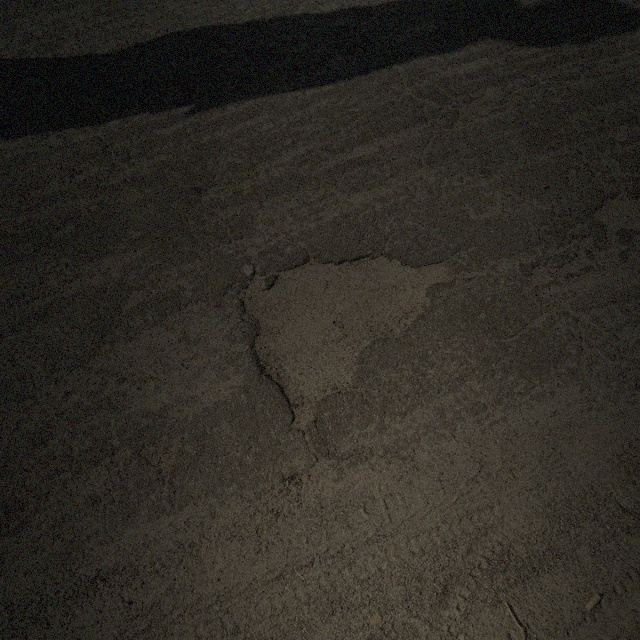pothole: (227, 250, 458, 432), (588, 191, 639, 237)
